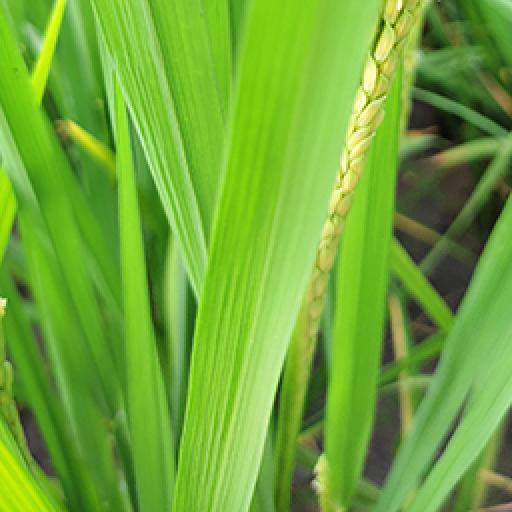Healthy Leaf: (80, 0, 384, 512)
